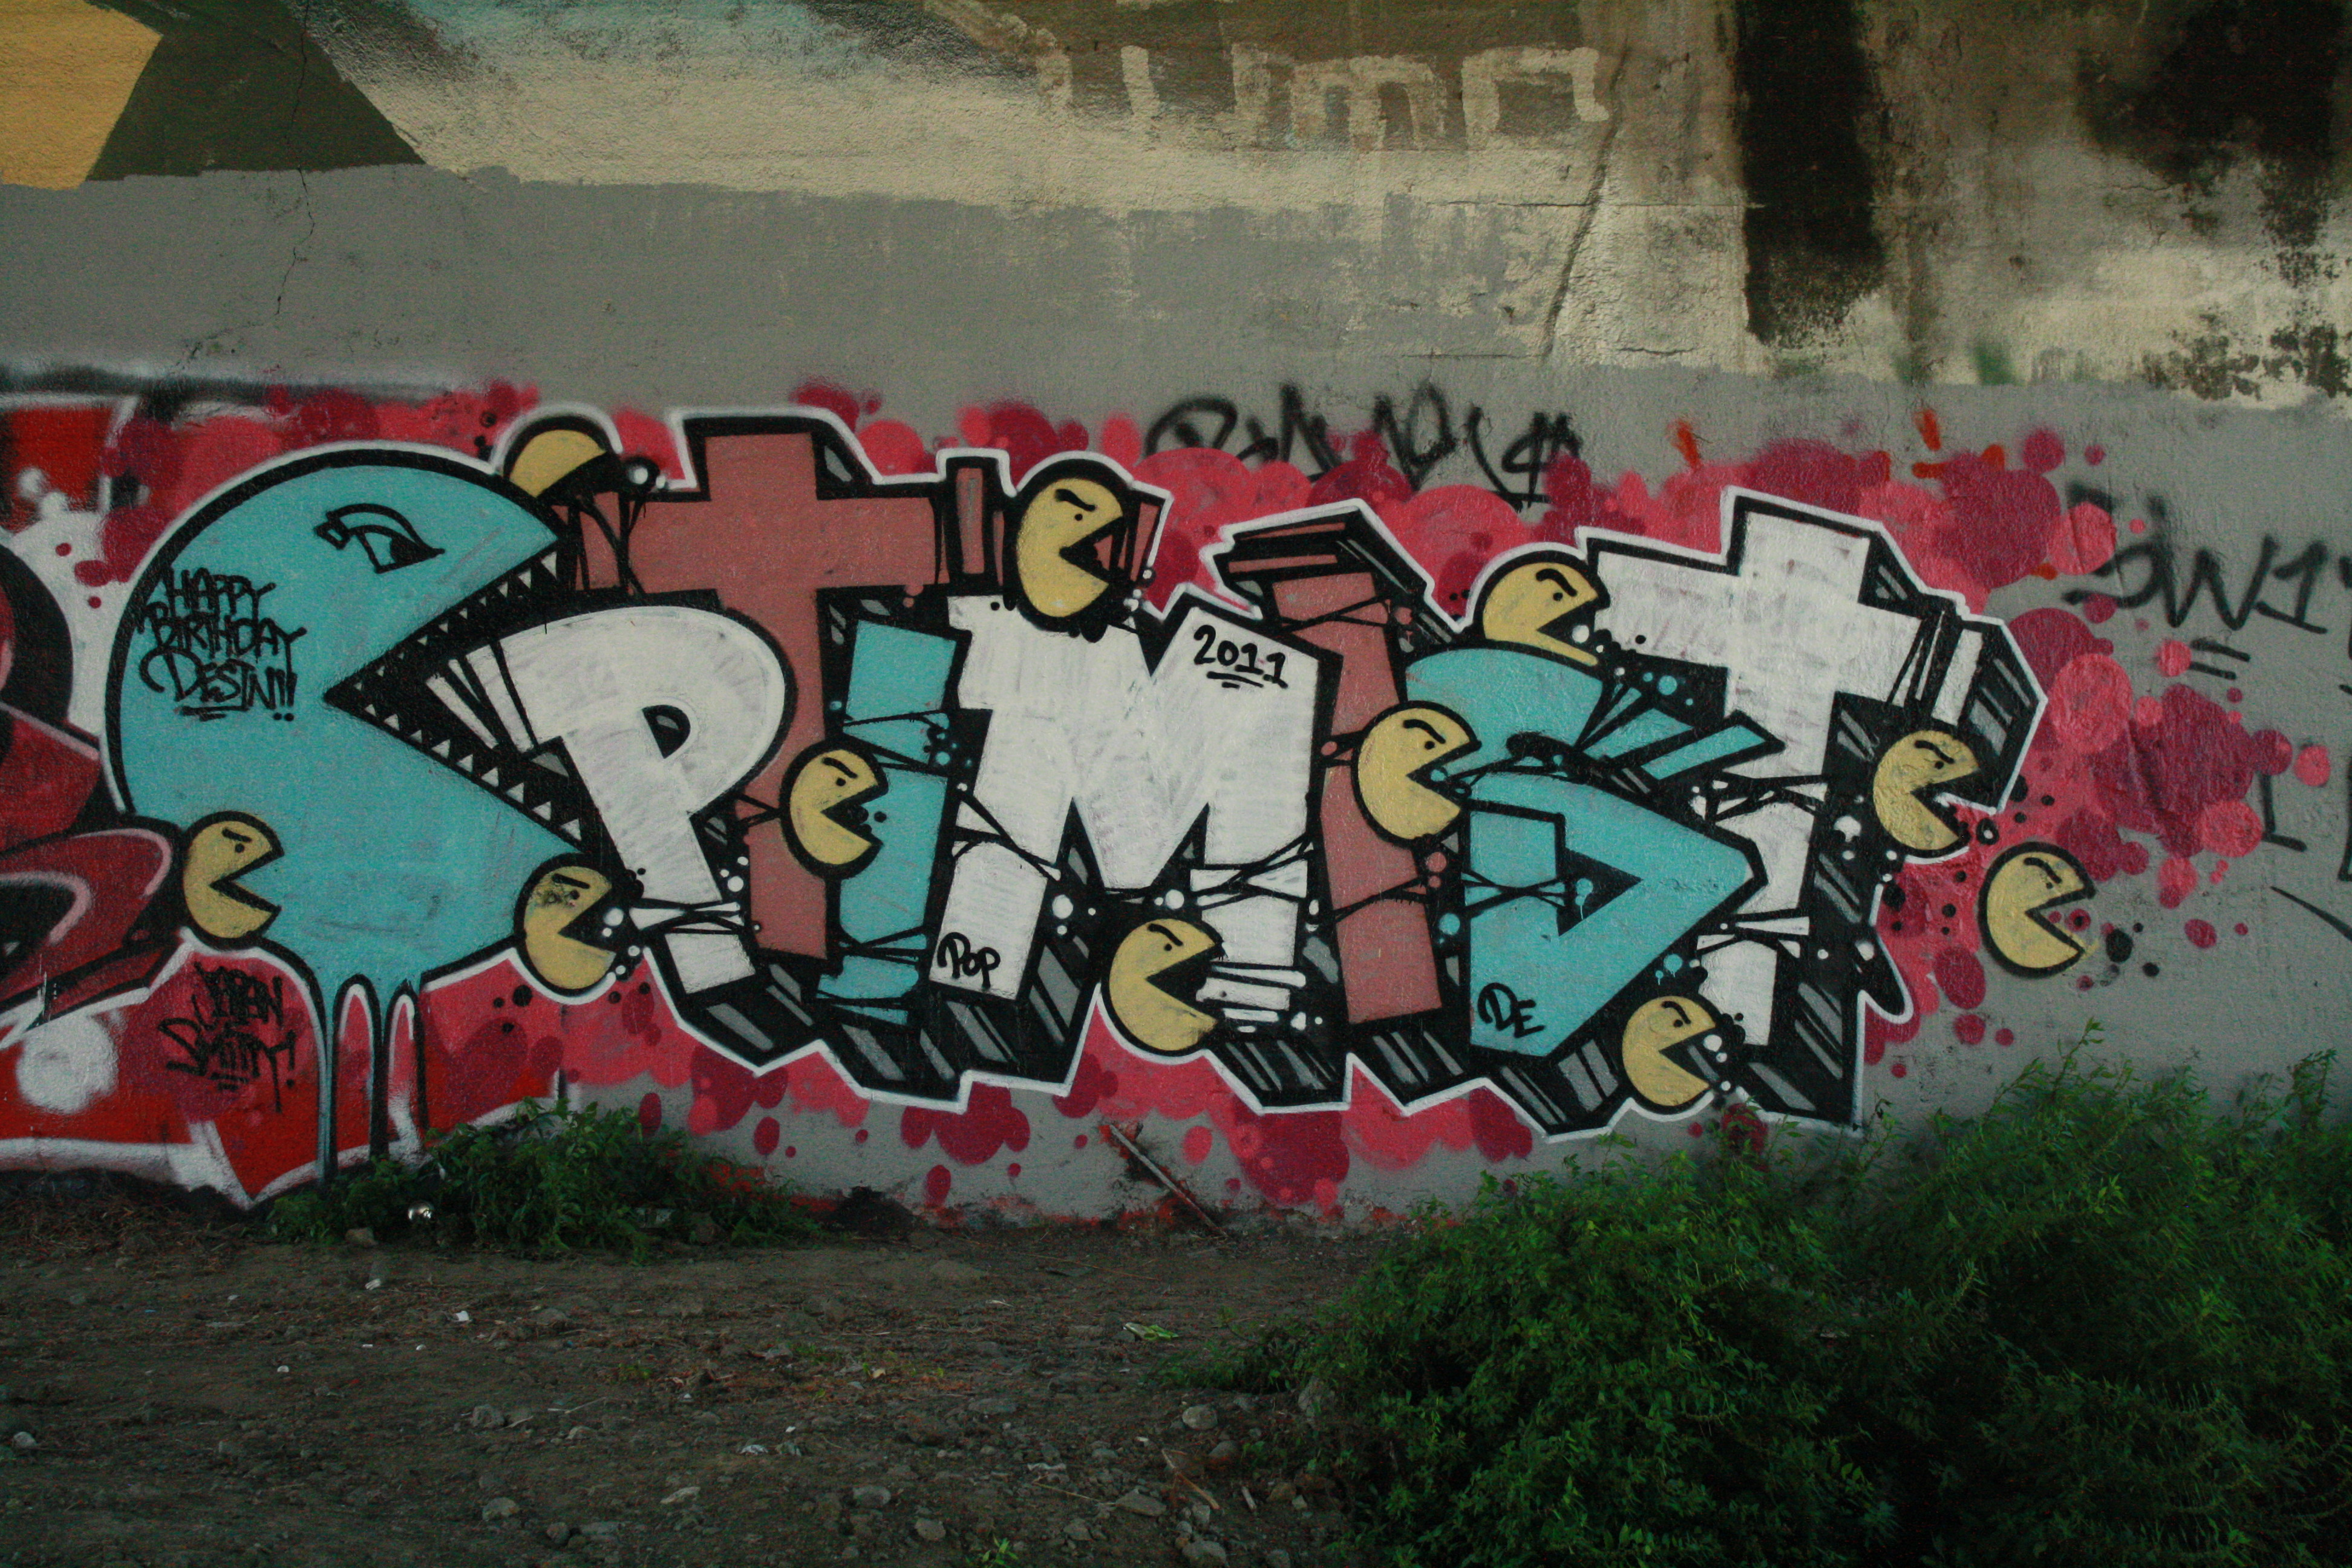graphite: (38, 411, 2319, 1139), (1146, 364, 1598, 518), (2086, 476, 2352, 691)
